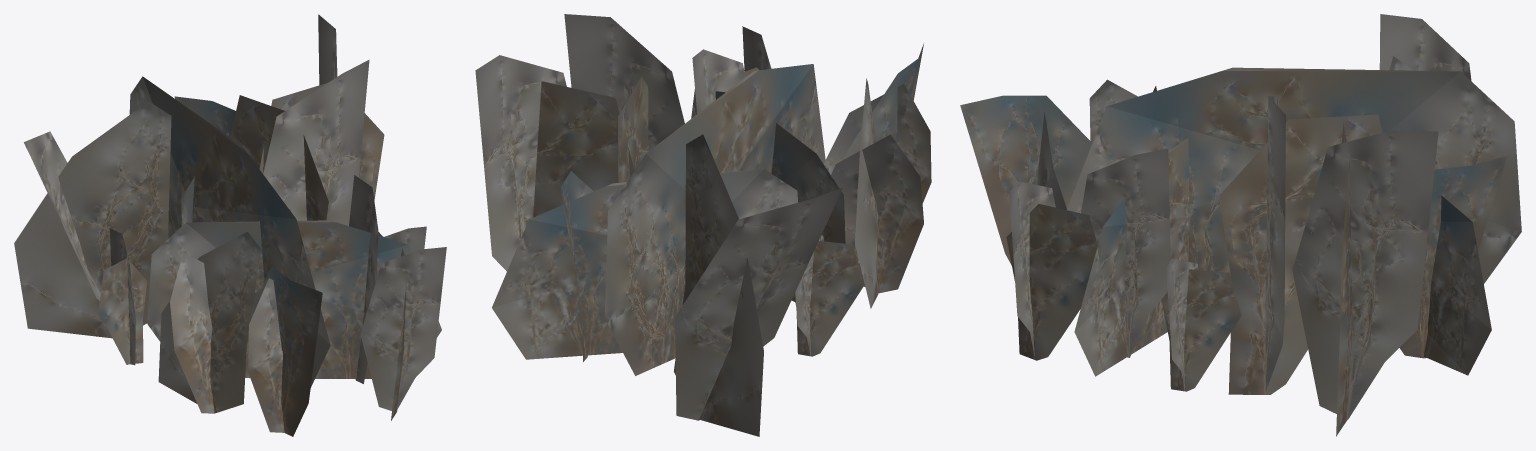
File: sm_DryGrass_01_01.fbx
3 views of the same model, side by side, from view 1: azimuth 30°, elevation 25°; view 2: azimuth 150°, elevation 25°; view 3: azimuth 270°, elevation 25° (orthographic). The views are drawn at different scales.
Visible parts, largest first — view 1: sm_DryGrass_01_01_LOD0; view 2: sm_DryGrass_01_01_LOD0; view 3: sm_DryGrass_01_01_LOD0.
Part boxes in pixels (x1,y1,x2,y2): sm_DryGrass_01_01_LOD0: (14,14,446,436); sm_DryGrass_01_01_LOD0: (475,14,931,436); sm_DryGrass_01_01_LOD0: (960,14,1521,436).
Size of the model in its own units: 113 by 143 by 91.
